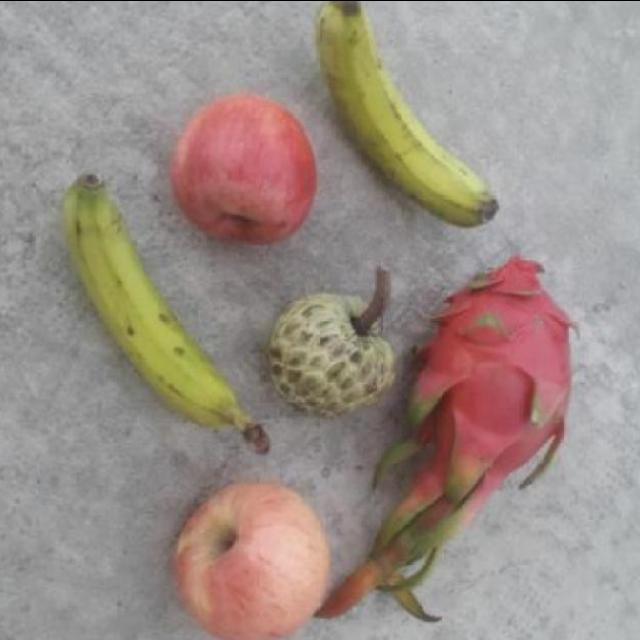apple: (163, 470, 333, 640), (166, 89, 320, 249)
banana: (54, 162, 274, 460), (310, 0, 500, 228)
dragon fruit: (395, 247, 578, 505)
sugar apple: (266, 288, 395, 420)
